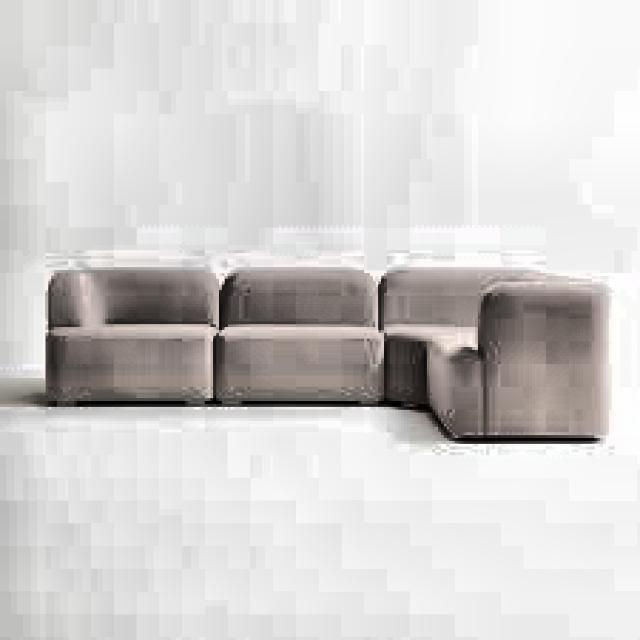sofa: (40, 262, 634, 444)
